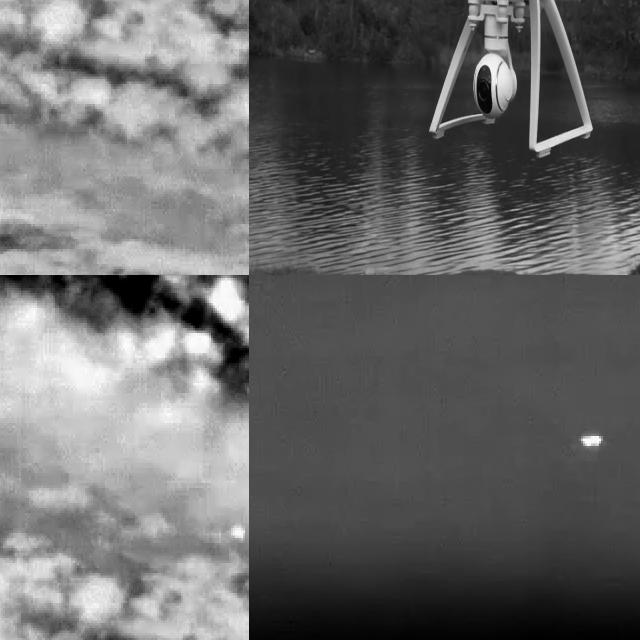0: (217, 515, 249, 555)
1: (572, 427, 616, 460)
drone: (331, 0, 640, 163)
